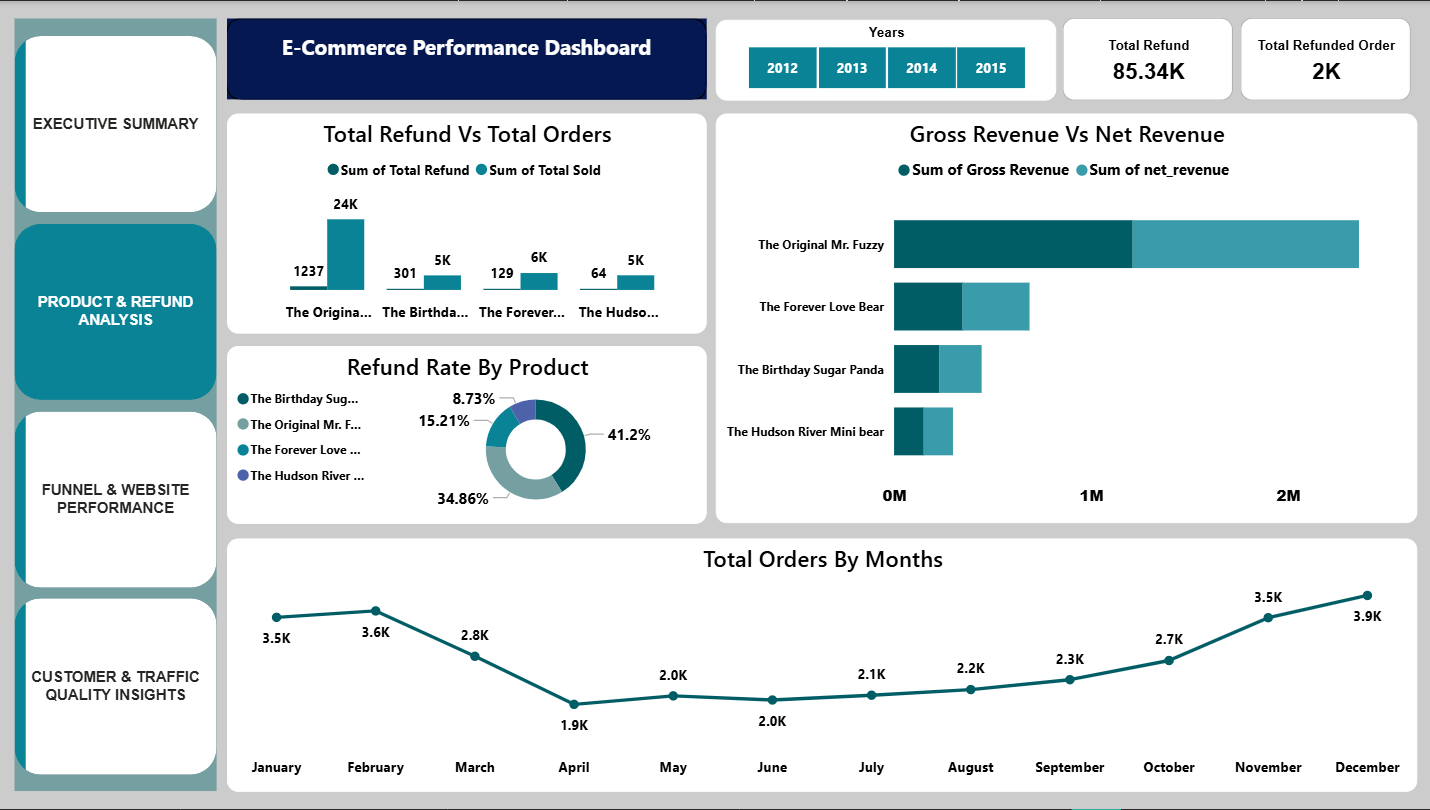

Layout of this report page (visuals, bound fields, positions):
{"tool":"powerbi","page":{"name":"PRODUCT & REFUND ANALYSIS","canvas":[1280,720],"ordinal":1},"visuals":[{"type":"shape","box":[204.9,16,427,72.4],"z":0},{"type":"slicer","title":"Years","fields":{"Values":["toy_store monthly_revenue.Years"]},"box":[640.5,17.2,303.1,72.4],"z":1000},{"type":"lineChart","title":" Total Orders By Months","fields":{"Y":["Sum(toy_store monthly_revenue.Total Orders)"],"Category":["toy_store monthly_revenue.Months"]},"box":[204.9,478.5,1060.1,225.8],"z":2000},{"type":"donutChart","title":" Refund Rate By Product ","fields":{"Category":["toy_store product_refund_rate.product_name"],"Y":["Sum(toy_store product_refund_rate.Refund Rate)"]},"box":[204.9,306.8,427,158.3],"z":3000},{"type":"clusteredColumnChart","title":"Total Refund Vs   Total Orders","fields":{"Category":["toy_store product_refund_rate.product_name"],"Y":["Sum(toy_store product_refund_rate.Total Refund)","Sum(toy_store product_refund_rate.Total Sold)"]},"box":[204.9,100.6,427,196.3],"z":4000},{"type":"barChart","title":" Gross Revenue Vs Net Revenue ","fields":{"Category":["toy_store net_revenue.product_name"],"Y":["Sum(toy_store net_revenue.gross_revenue)","Sum(toy_store net_revenue.net_revenue)"]},"box":[640.5,100.6,624.5,364.4],"z":5000},{"type":"cardVisual","fields":{"Data":["Sum(toy_store loss_by_refund.Revenue Loss Due To Refunds)","Sum(toy_store loss_by_refund.Total Refunded Orders)"]},"box":[943.6,9.8,321.5,84.7],"z":6000},{"type":"textbox","box":[204.9,17.2,427,71.2],"z":7000},{"type":"shape","box":[16,16,180.4,688.3],"z":8000},{"type":"pageNavigator","box":[16,30.7,180.4,660.1],"z":9000}]}

Visuals, with their boxes in screenshot pixels (x1, y1, x2, y2), scaled from the page's 1280x720 canvas onto the 1430x810 screenshot:
shape: x1=229, y1=18, x2=706, y2=99
"Years" slicer: x1=716, y1=19, x2=1054, y2=101
" Total Orders By Months" lineChart: x1=229, y1=538, x2=1413, y2=792
" Refund Rate By Product " donutChart: x1=229, y1=345, x2=706, y2=523
"Total Refund Vs   Total Orders" clusteredColumnChart: x1=229, y1=113, x2=706, y2=334
" Gross Revenue Vs Net Revenue " barChart: x1=716, y1=113, x2=1413, y2=523
cardVisual - Sum(toy_store loss_by_refund.Revenue Loss Due To Refunds) x Sum(toy_store loss_by_refund.Total Refunded Orders): x1=1054, y1=11, x2=1413, y2=106
textbox: x1=229, y1=19, x2=706, y2=99
shape: x1=18, y1=18, x2=219, y2=792
pageNavigator: x1=18, y1=35, x2=219, y2=777
